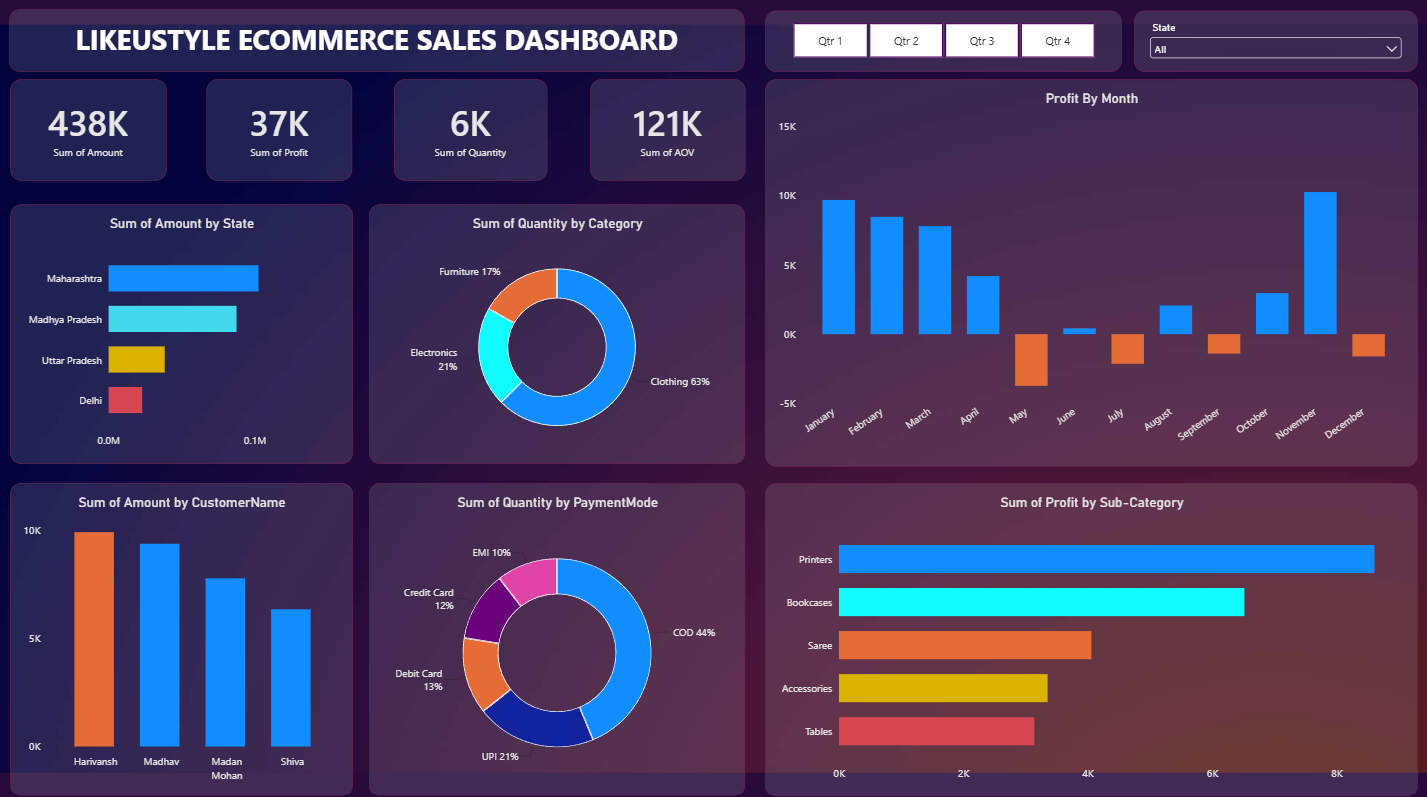

This screenshot's page, from the dashboard's own definition file:
{"tool":"powerbi","page":{"name":"Page 1","canvas":[1920,1080],"ordinal":0},"visuals":[{"type":"textbox","box":[14,15.7,985.5,83.7],"z":0},{"type":"columnChart","title":"Profit By Month","fields":{"Category":["Orders.Order Date.Variation.Date Hierarchy.Month"],"Y":["Sum(Details.Profit)"]},"box":[1026.7,108.9,874.3,519.2],"z":1000},{"type":"barChart","fields":{"Category":["Details.Sub-Category"],"Y":["Sum(Details.Profit)"]},"box":[1026.7,649.9,874.3,420.4],"z":2000},{"type":"donutChart","fields":{"Category":["Details.Category"],"Y":["Sum(Details.Quantity)"]},"box":[496.1,275.8,504.3,347.9],"z":3000},{"type":"donutChart","fields":{"Category":["Details.PaymentMode"],"Y":["Sum(Details.Quantity)"]},"box":[496.1,650.4,504.3,419.9],"z":4000},{"type":"cardVisual","fields":{"Data":["Sum(Details.Amount)"]},"box":[14.4,109.1,209.9,135.8],"z":5000},{"type":"cardVisual","fields":{"Data":["Sum(Details.Profit)"]},"box":[277.9,109.1,195.5,135.8],"z":6000},{"type":"cardVisual","fields":{"Data":["Sum(Details.Quantity)"]},"box":[529,109.1,205.8,135.8],"z":7000},{"type":"cardVisual","fields":{"Data":["Sum(Details.AOV)"]},"box":[792.5,109.1,207.9,135.8],"z":8000},{"type":"barChart","fields":{"Category":["Orders.State"],"Y":["Sum(Details.Amount)"]},"box":[14.4,275.8,459,347.9],"z":9000},{"type":"columnChart","fields":{"Category":["Orders.CustomerName"],"Y":["Sum(Details.Amount)"]},"box":[14.4,650.4,459,419.9],"z":10000},{"type":"slicer","fields":{"Values":["Orders.Order Date.Variation.Date Hierarchy.Quarter"]},"box":[1027.1,16.5,477.5,82.3],"z":11000},{"type":"slicer","fields":{"Values":["Orders.State"]},"box":[1520.9,16.7,380.2,82.1],"z":12000}]}

Visuals, with their boxes in screenshot pixels (x1, y1, x2, y2), scaled from the page's 1920x1080 canvas onto the 1427x797 screenshot:
textbox: [x1=10, y1=12, x2=743, y2=73]
"Profit By Month" columnChart: [x1=763, y1=80, x2=1413, y2=464]
barChart - Details.Sub-Category x Sum(Details.Profit): [x1=763, y1=480, x2=1413, y2=790]
donutChart - Details.Category x Sum(Details.Quantity): [x1=369, y1=204, x2=744, y2=460]
donutChart - Details.PaymentMode x Sum(Details.Quantity): [x1=369, y1=480, x2=744, y2=790]
cardVisual - Sum(Details.Amount): [x1=11, y1=81, x2=167, y2=181]
cardVisual - Sum(Details.Profit): [x1=207, y1=81, x2=352, y2=181]
cardVisual - Sum(Details.Quantity): [x1=393, y1=81, x2=546, y2=181]
cardVisual - Sum(Details.AOV): [x1=589, y1=81, x2=744, y2=181]
barChart - Orders.State x Sum(Details.Amount): [x1=11, y1=204, x2=352, y2=460]
columnChart - Orders.CustomerName x Sum(Details.Amount): [x1=11, y1=480, x2=352, y2=790]
slicer - Orders.Order Date.Variation.Date Hierarchy.Quarter: [x1=763, y1=12, x2=1118, y2=73]
slicer - Orders.State: [x1=1130, y1=12, x2=1413, y2=73]
